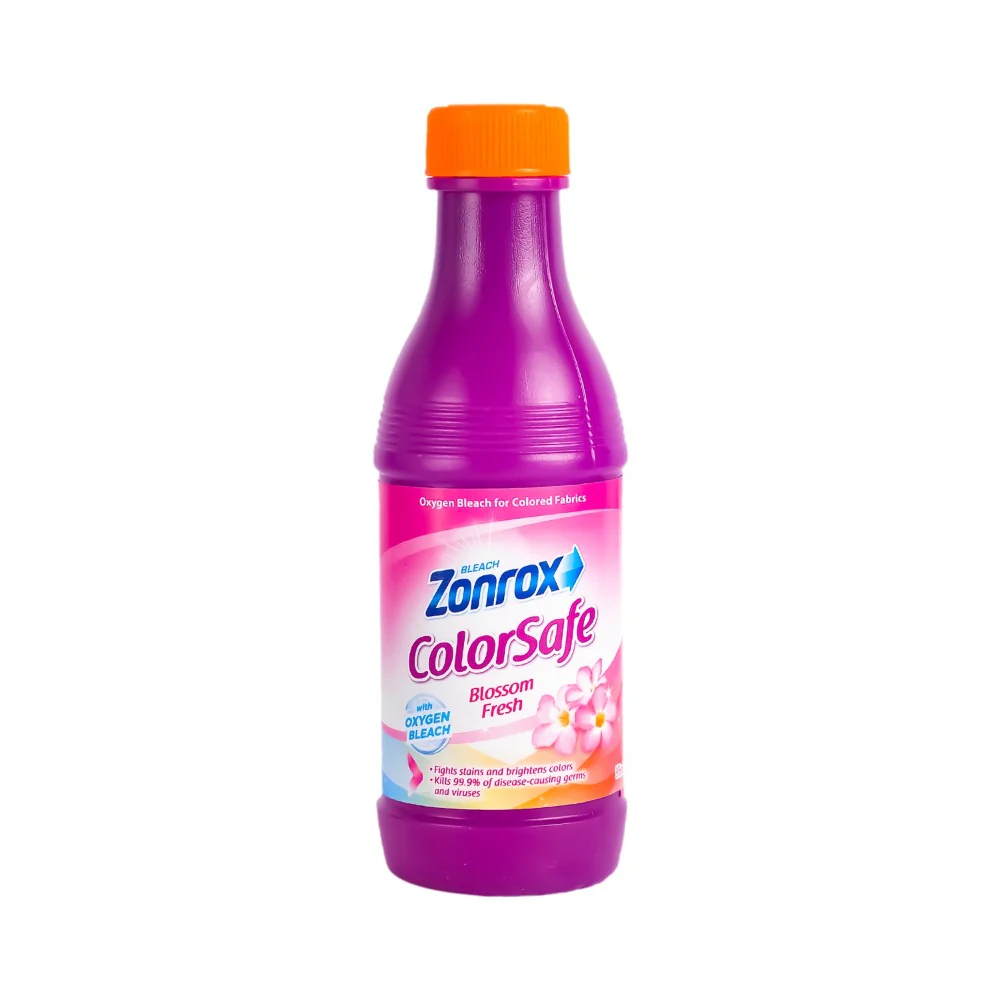toxic_waste: (391, 110, 627, 891)
